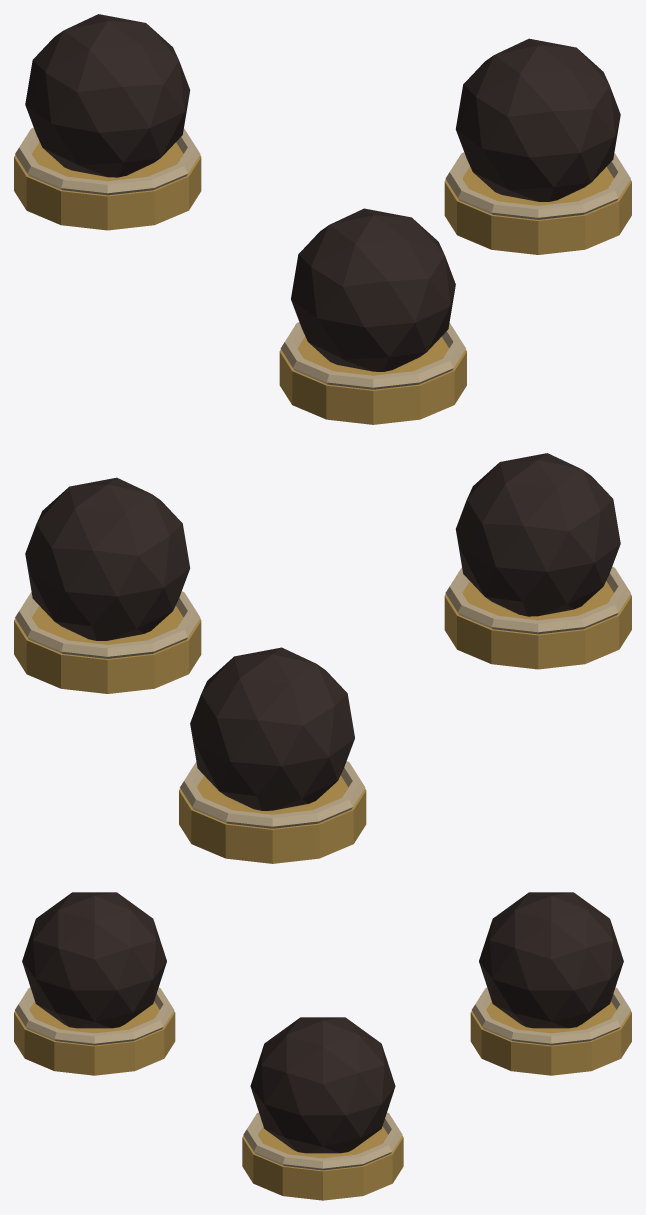
The model's file is PirateCove_CannonballSlalom_Standard.glb.
3 views of the same model, one above another, from view 1: azimuth 30°, elevation 25°; view 2: azimuth 150°, elevation 25°; view 3: azimuth 270°, elevation 25° (orthographic). The views are drawn at different scales.
Parts seen in each view (by area): view 1: PirateCove_CannonballSlalom_Standard; view 2: PirateCove_CannonballSlalom_Standard; view 3: PirateCove_CannonballSlalom_Standard.
Part boxes in pixels (x1,y1,x2,y2): PirateCove_CannonballSlalom_Standard: [14, 14, 631, 424]; PirateCove_CannonballSlalom_Standard: [14, 453, 631, 863]; PirateCove_CannonballSlalom_Standard: [14, 892, 631, 1200].
Bounding box in the file's own units: 1.7 × 0.6 × 2.3.
